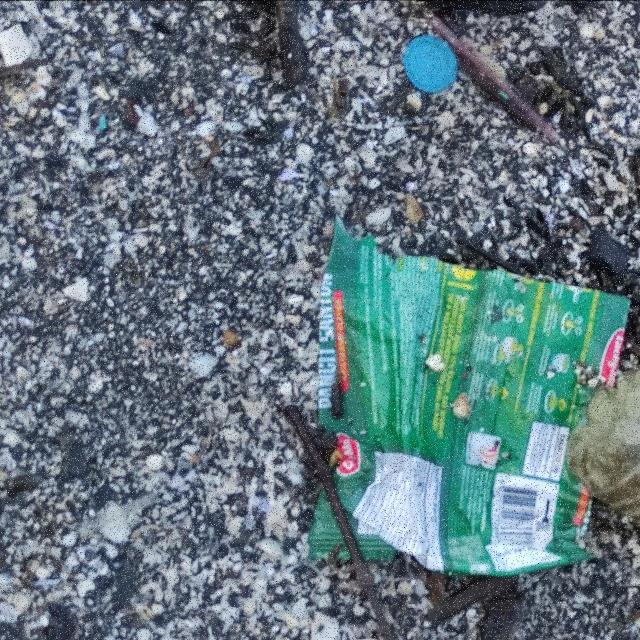plastic_waste: (320, 221, 632, 577), (403, 38, 457, 95)
